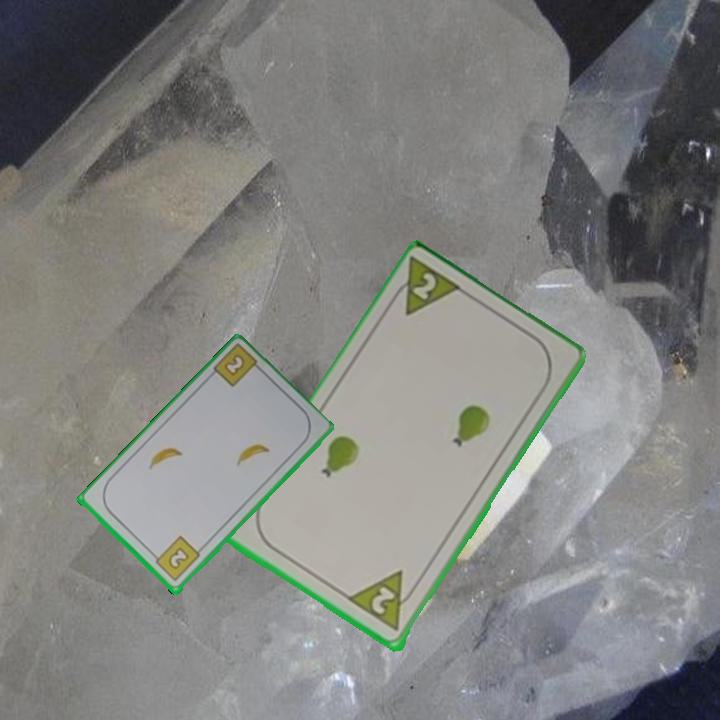2b: (148, 533, 203, 584), (220, 353, 246, 379)
2p: (385, 254, 467, 320), (346, 567, 423, 635)
